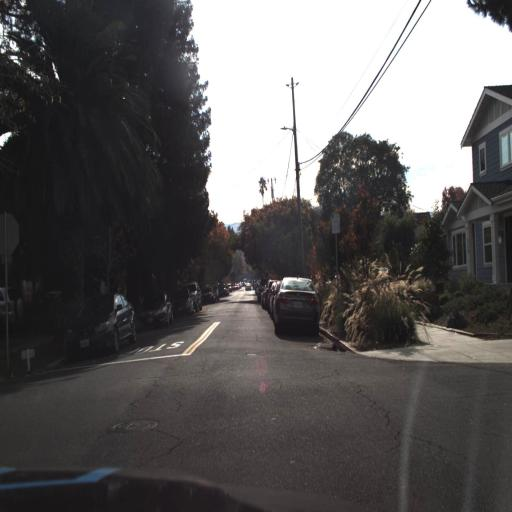car: (67, 293, 138, 353), (273, 276, 319, 336), (135, 289, 173, 326), (1, 284, 23, 335), (173, 285, 193, 315), (189, 281, 202, 311)
